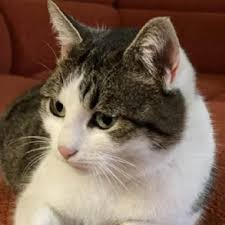kedi: (14, 4, 194, 212)
